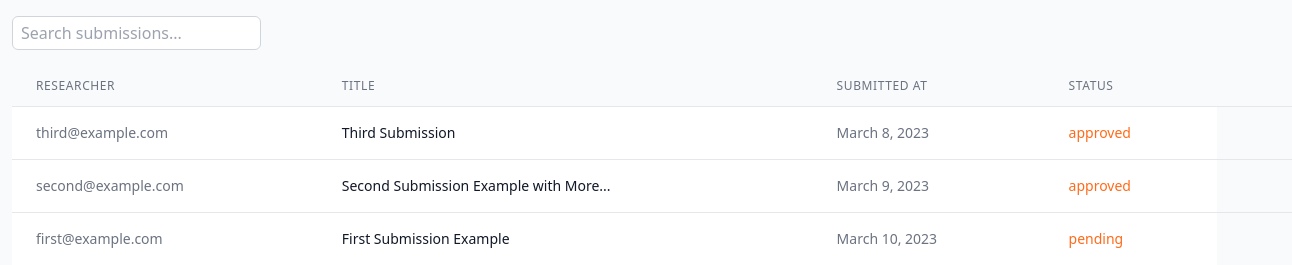
PendingSubmissionsTable Component › renders search bar when showSearchBar is true and filters submissions
Step 1. Type "third" into the field with placeholder "Search submissions..." → (136,33), box [12,16,261,50]
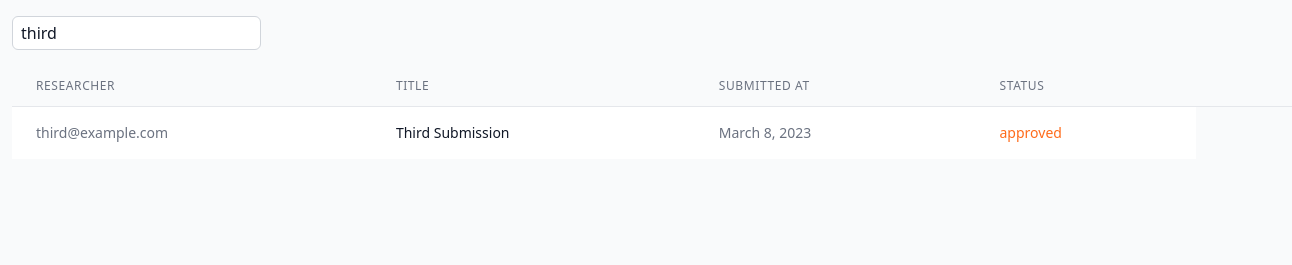
Expected: the text "third@example.com" is shown, [12,106,372,159]
Expected: the text "first@example.com" is gone
Expected: the text "second@example.com" is gone
